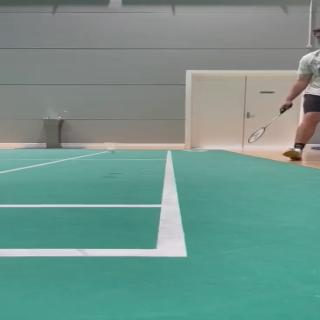Shuttle: (104, 142, 118, 154)
